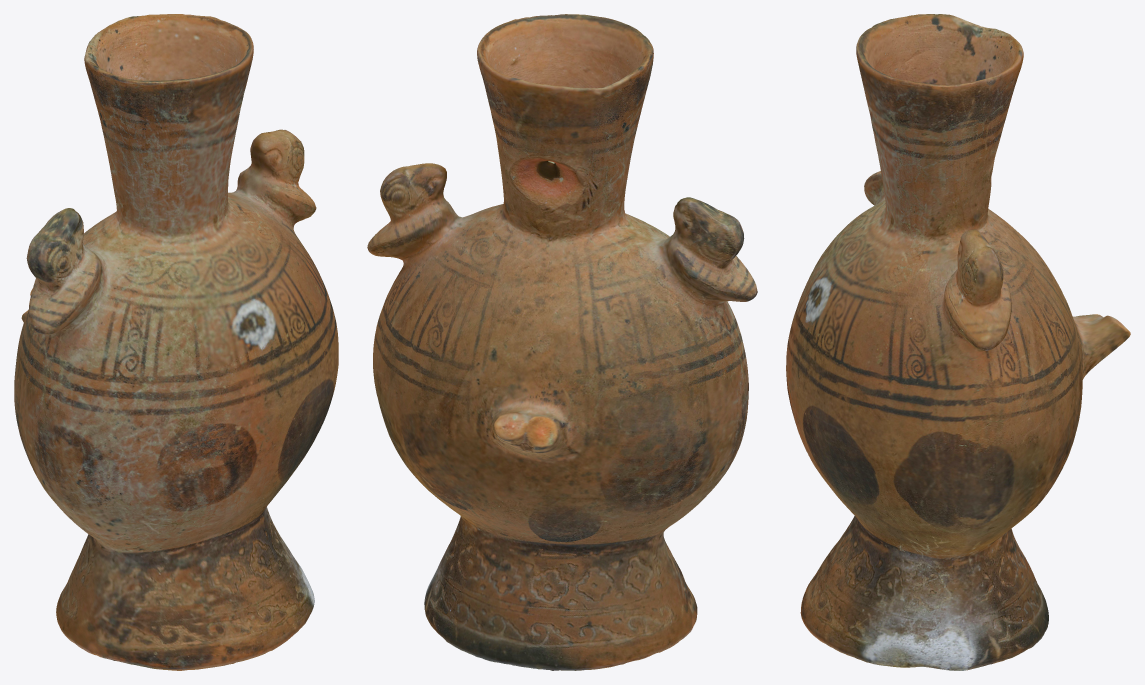
The model's file is botella_de_ceramica_de_estilo_lambayeque.glb.
3 views of the same model, side by side, from view 1: azimuth 30°, elevation 25°; view 2: azimuth 150°, elevation 25°; view 3: azimuth 270°, elevation 25° (orthographic).
Visible parts, largest first — view 1: Model; view 2: Model; view 3: Model.
Boxes of the visible parts, bbox=[...] form: Model: bbox=[14, 14, 338, 670]; Model: bbox=[367, 14, 757, 670]; Model: bbox=[786, 14, 1130, 670].
Bounding box in the file's own units: 3.81 × 6.29 × 3.46.
Materials: 1 (1 with a texture image).
